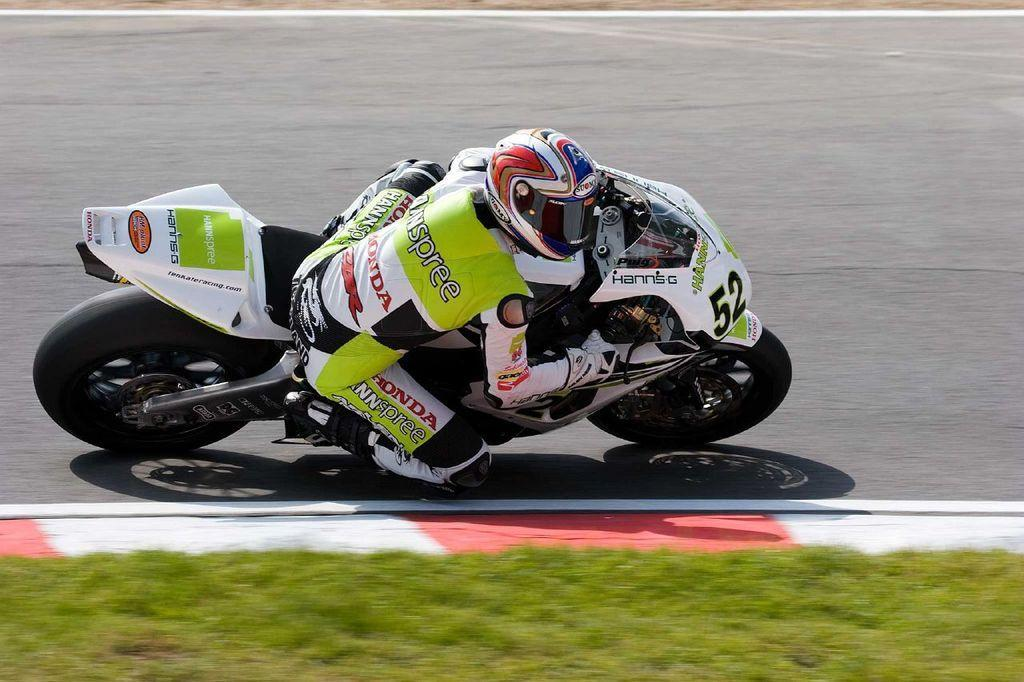helmet: (483, 127, 601, 262)
